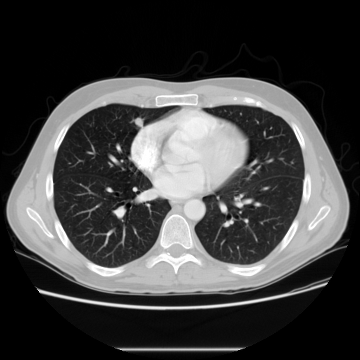nodule: (133, 116, 143, 126)
